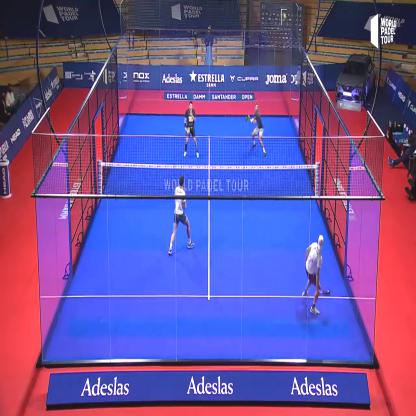ball: (281, 9, 288, 26)
